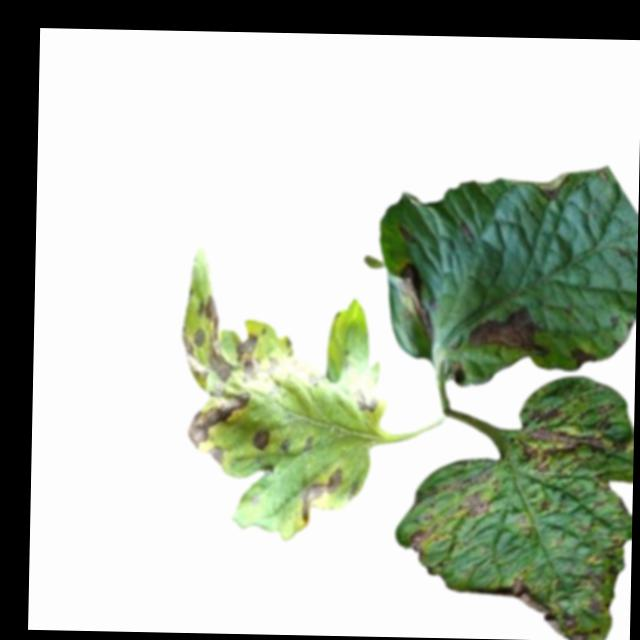Early_blight: (180, 292, 267, 450), (516, 401, 625, 476), (512, 571, 587, 640), (468, 305, 553, 356), (398, 259, 441, 339), (440, 464, 500, 517), (587, 535, 626, 615), (302, 467, 345, 524), (406, 526, 436, 560), (352, 384, 379, 413), (569, 343, 600, 367), (251, 427, 271, 452), (210, 443, 227, 466)
